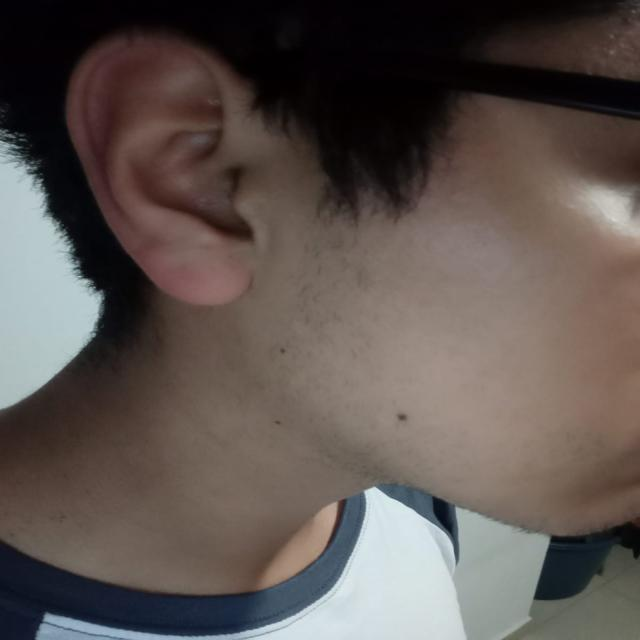ear: (67, 32, 265, 306)
